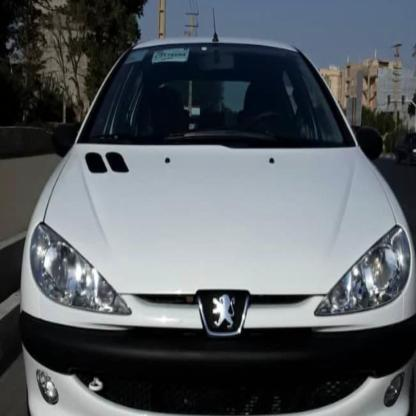Car: (1, 20, 416, 416)
